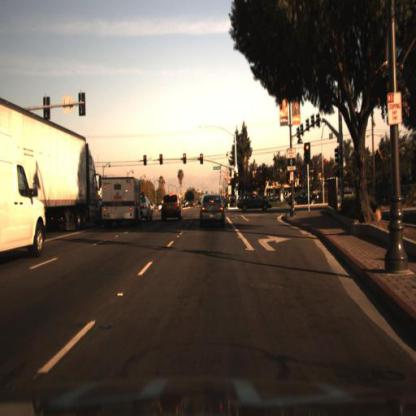car: (1, 134, 48, 266), (99, 178, 139, 232), (234, 186, 274, 217), (197, 193, 226, 232), (160, 189, 186, 228), (237, 190, 275, 216), (328, 184, 362, 208), (142, 194, 152, 224)
trafficLight-Red: (304, 142, 314, 157), (199, 150, 207, 166), (141, 148, 149, 162), (142, 153, 148, 167), (158, 150, 164, 162), (182, 152, 188, 164), (199, 152, 205, 164), (182, 151, 187, 163), (159, 154, 164, 165), (235, 170, 240, 181)
truck: (23, 111, 102, 227)
